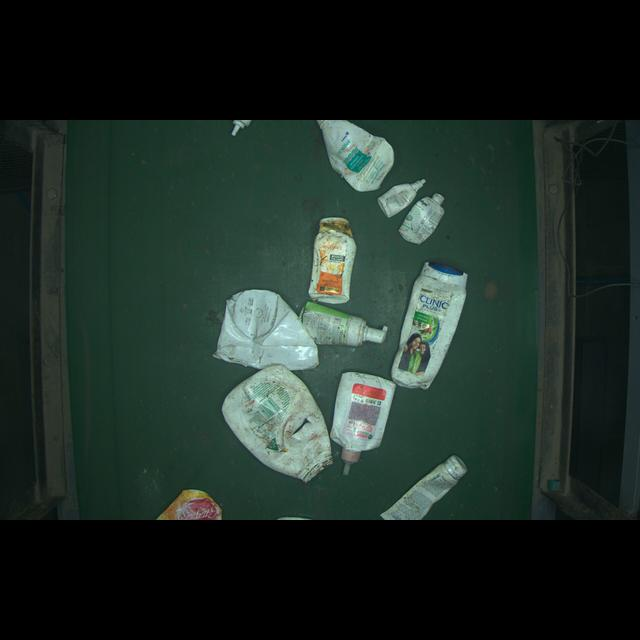mix PET: (393, 258, 467, 402), (326, 362, 397, 479), (381, 450, 470, 519), (305, 205, 363, 309), (301, 301, 394, 350)
